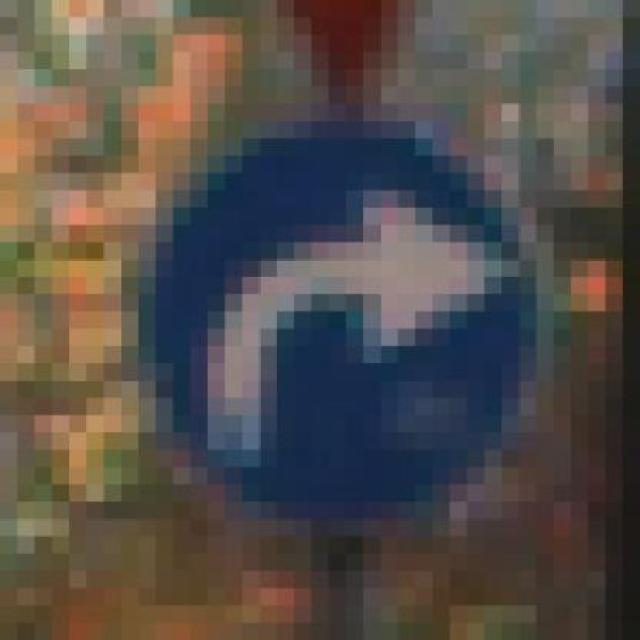Turn right ahead: (103, 86, 571, 554)
